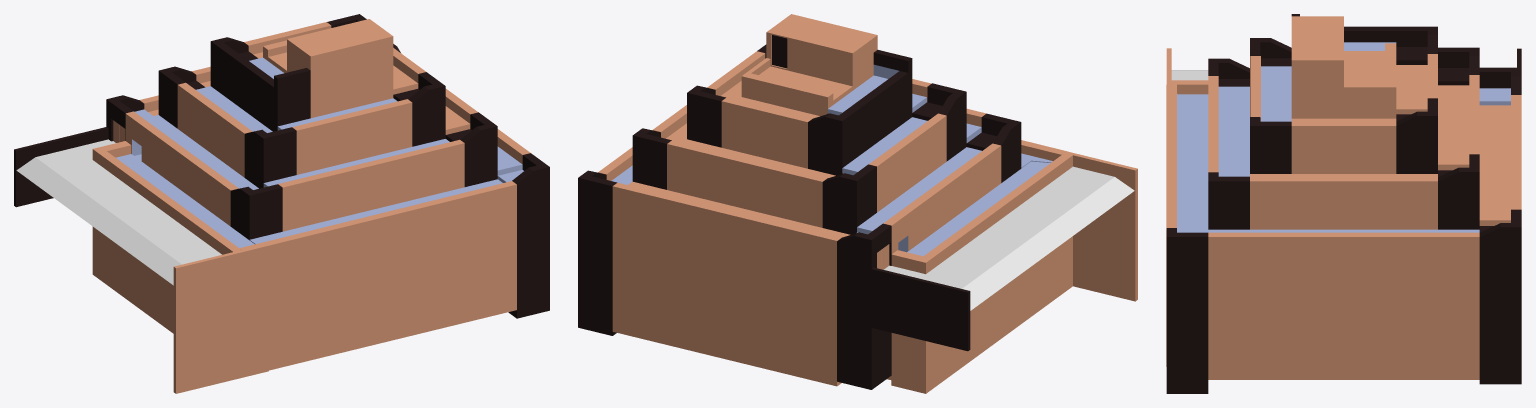
The model's file is lazyriver.glb.
The picture shows the model from 3 angles, left to right: view 1: azimuth 30°, elevation 25°; view 2: azimuth 150°, elevation 25°; view 3: azimuth 270°, elevation 25°; orthographic projection. The views are drawn at different scales.
Parts seen in each view (by area): view 1: Cube.013, Cube.025, Cube, Cube.010, Cube.001, Cube.006, Cube.008, Cube.022, Cube.002, Cube.005, Cube.019, Cube.023 (+9 smaller); view 2: Cube.011, Cube.025, Cube.019, Cube, Cube.001, Cube.007, Cube.008, Cube.016, Cube.005, Cube.003, Cube.002, Cube.017 (+9 smaller); view 3: Cube.012, Cube.009, Cube.001, Cube.016, Cube.022, Cube.004, Cube.013, Cube.011, Cube.010, Cube.007, Cube.018, Cube.014 (+12 smaller).
Boxes of the visible parts, bbox=[...] form: Cube.013: bbox=[239, 179, 516, 376]; Cube.025: bbox=[92, 141, 268, 393]; Cube: bbox=[16, 139, 221, 285]; Cube.010: bbox=[263, 139, 464, 231]; Cube.001: bbox=[263, 19, 393, 118]; Cube.006: bbox=[277, 98, 412, 174]; Cube.008: bbox=[125, 111, 258, 226]; Cube.022: bbox=[497, 153, 549, 318]; Cube.002: bbox=[230, 53, 310, 131]; Cube.005: bbox=[177, 82, 272, 177]; Cube.019: bbox=[14, 95, 152, 207]; Cube.023: bbox=[244, 127, 296, 188]; Cube.011: bbox=[612, 181, 850, 386]; Cube.025: bbox=[891, 151, 1137, 393]; Cube.019: bbox=[837, 223, 970, 389]; Cube: bbox=[884, 166, 1134, 310]; Cube.001: bbox=[741, 14, 877, 116]; Cube.007: bbox=[667, 139, 835, 227]; Cube.008: bbox=[857, 143, 1001, 380]; Cube.016: bbox=[578, 170, 617, 335]; Cube.005: bbox=[842, 113, 946, 212]; Cube.003: bbox=[721, 97, 819, 168]; Cube.002: bbox=[828, 50, 912, 153]; Cube.017: bbox=[808, 104, 862, 175]; Cube.012: bbox=[1208, 229, 1479, 379]; Cube.009: bbox=[1250, 174, 1437, 229]; Cube.001: bbox=[1291, 16, 1396, 118]; Cube.016: bbox=[1479, 209, 1521, 384]; Cube.022: bbox=[1166, 228, 1208, 393]; Cube.004: bbox=[1291, 118, 1396, 173]; Cube.013: bbox=[1166, 84, 1208, 366]; Cube.011: bbox=[1479, 95, 1521, 225]; Cube.010: bbox=[1208, 76, 1249, 176]; Cube.007: bbox=[1438, 75, 1479, 170]; Cube.018: bbox=[1438, 154, 1479, 229]; Cube.014: bbox=[1396, 98, 1437, 173].
Size of the model in its own units: 45.21 by 29.64 by 34.01.
